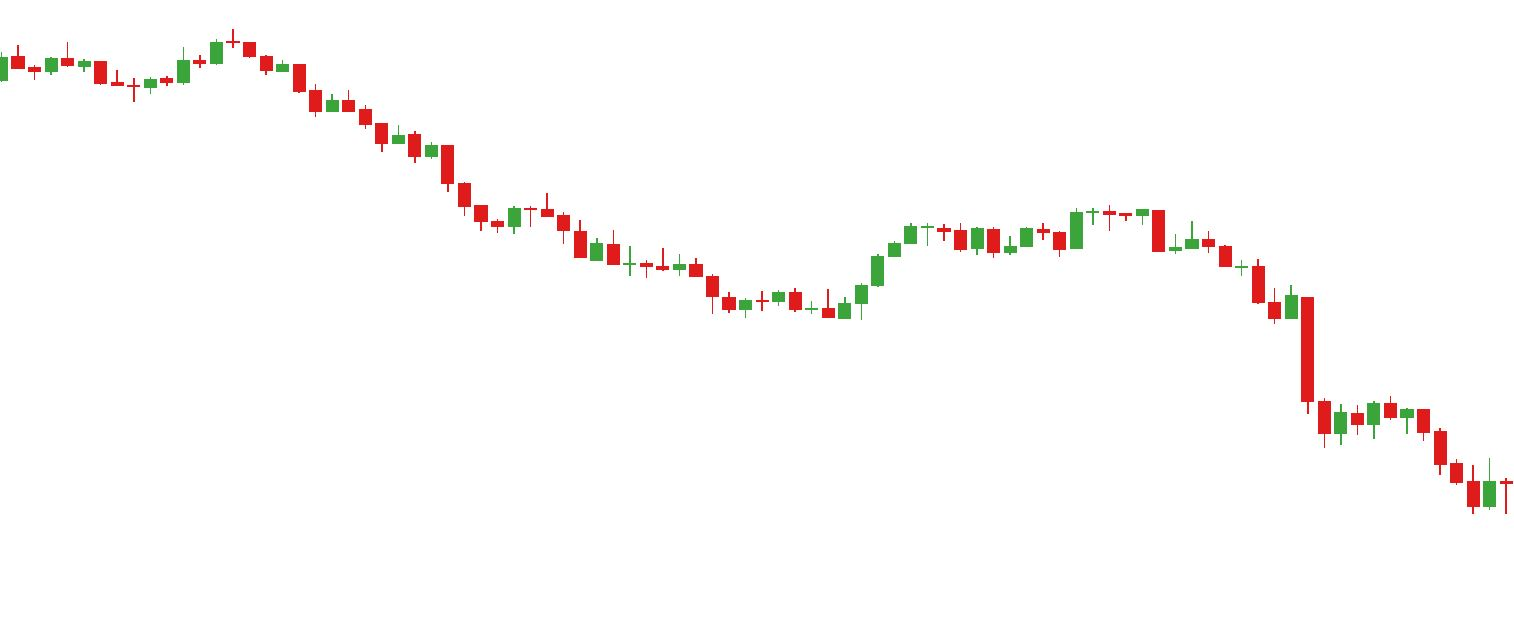sell: (61, 31, 239, 76)
